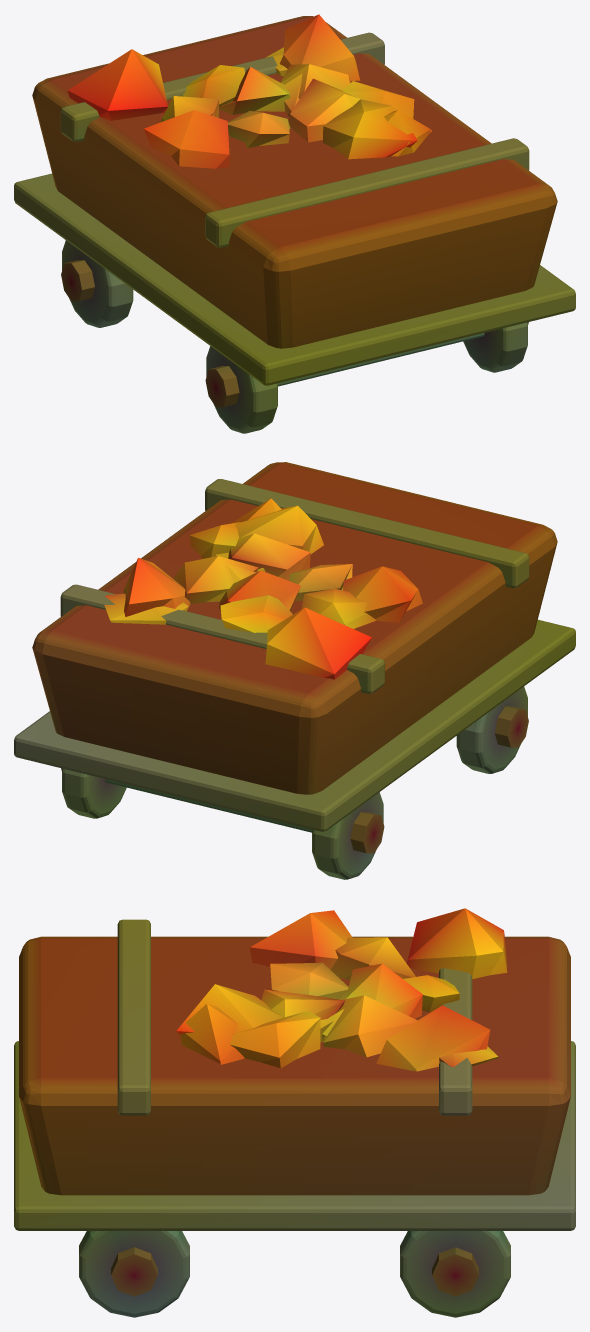
Rendered from MineCart_Gold_01.fbx.
3 renders of one model, top to bottom at view 1: azimuth 30°, elevation 25°; view 2: azimuth 150°, elevation 25°; view 3: azimuth 270°, elevation 25°, orthographic. The views are drawn at different scales.
Parts seen in each view (by area): view 1: MineCart_Gold_01; view 2: MineCart_Gold_01; view 3: MineCart_Gold_01.
Part boxes in pixels (<box>): MineCart_Gold_01: <box>14,14,575,433</box>; MineCart_Gold_01: <box>14,462,575,879</box>; MineCart_Gold_01: <box>14,908,575,1317</box>.
Size of the model in its own units: 1.2 by 0.9562 by 1.68.
